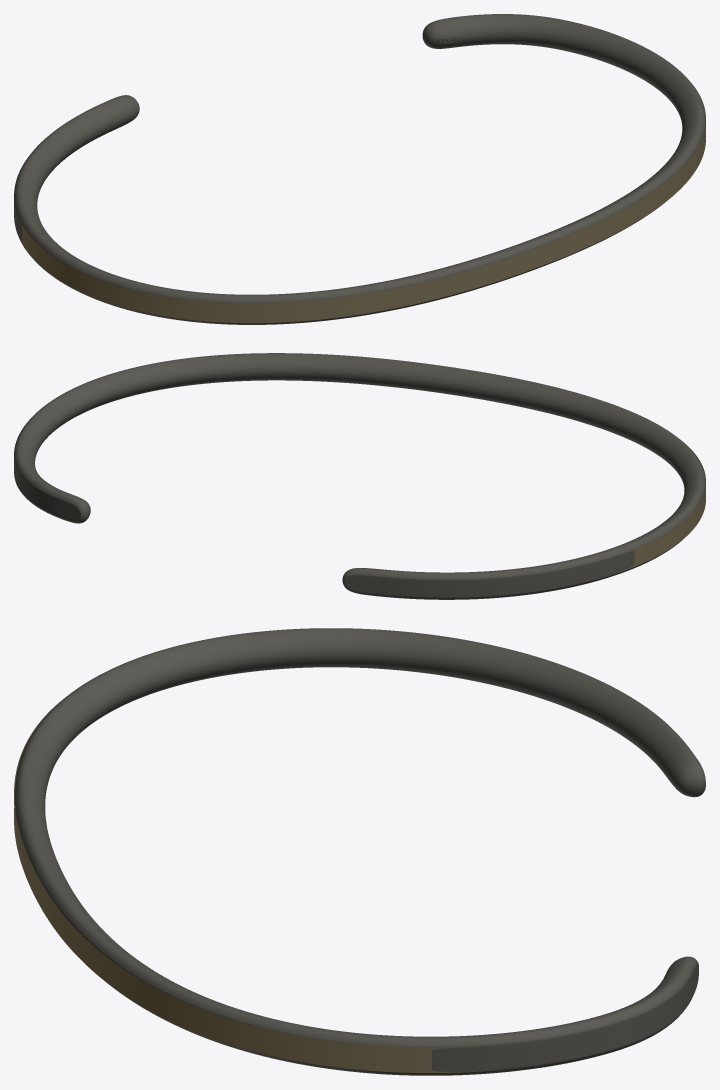
The model's file is bold-black.glb.
The picture shows the model from 3 angles, top to bottom: view 1: azimuth 30°, elevation 25°; view 2: azimuth 150°, elevation 25°; view 3: azimuth 270°, elevation 25°; orthographic projection. The views are drawn at different scales.
Parts seen in each view (by area): view 1: bold-body.001, bpld-omote.001; view 2: bold-body.001, bpld-omote.001; view 3: bold-body.001, bpld-omote.001.
Part boxes in pixels (box(x1,y1,x2,y2)): bold-body.001: box(14, 14, 705, 324); bpld-omote.001: box(15, 83, 705, 323); bold-body.001: box(14, 353, 705, 599); bpld-omote.001: box(596, 440, 705, 579); bold-body.001: box(15, 628, 705, 1075); bpld-omote.001: box(14, 701, 508, 1072).
Size of the model in its own units: 3.4 by 0.1422 by 2.39.
Materials: 2 (2 with a texture image).
